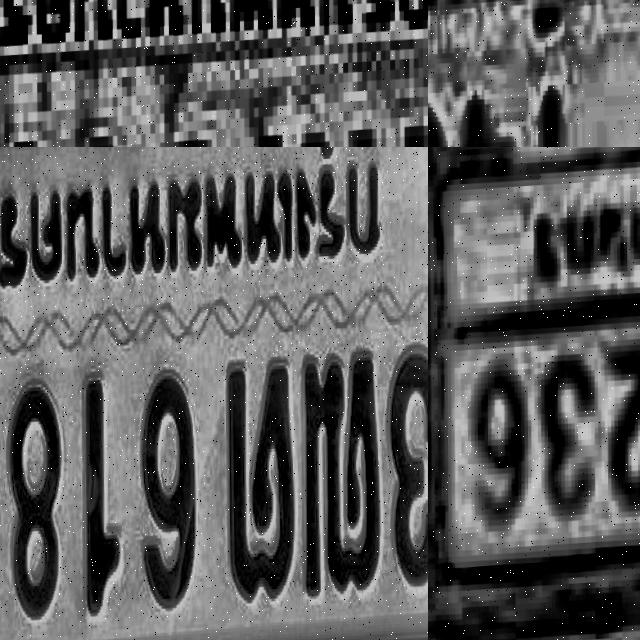license-plate: (0, 147, 428, 640), (428, 147, 640, 615), (0, 0, 428, 147), (428, 0, 640, 147)
